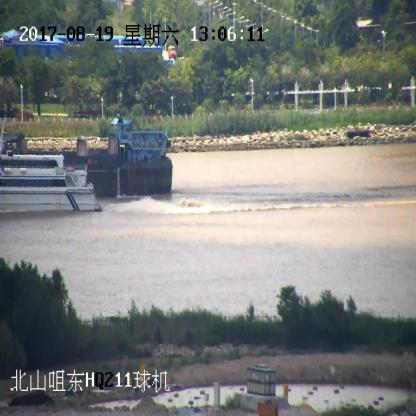Bulk Carrier: (0, 114, 174, 196)
